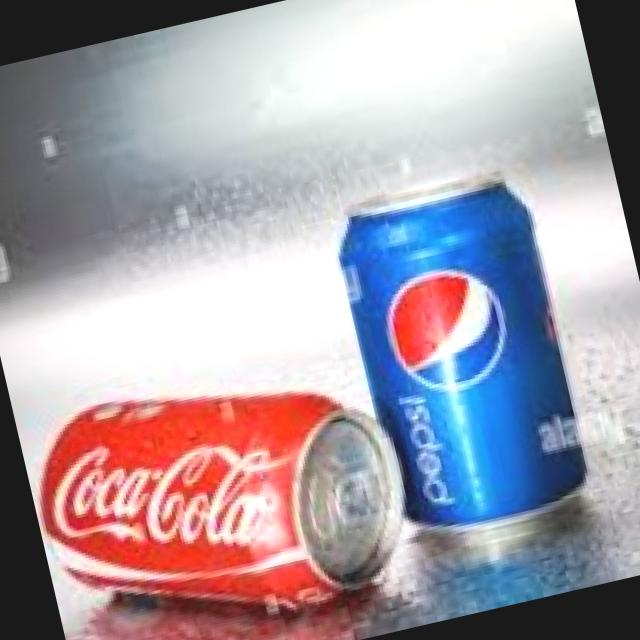kim_loai: (335, 177, 590, 529), (37, 390, 407, 627)
